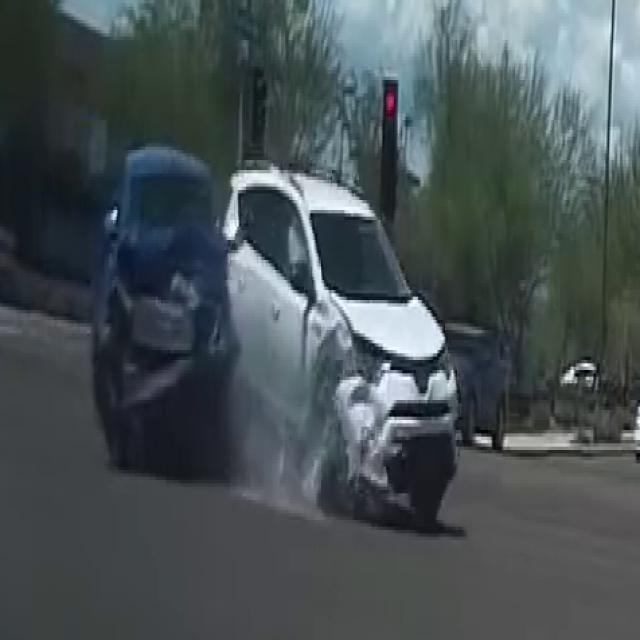accident: (109, 143, 462, 567)
